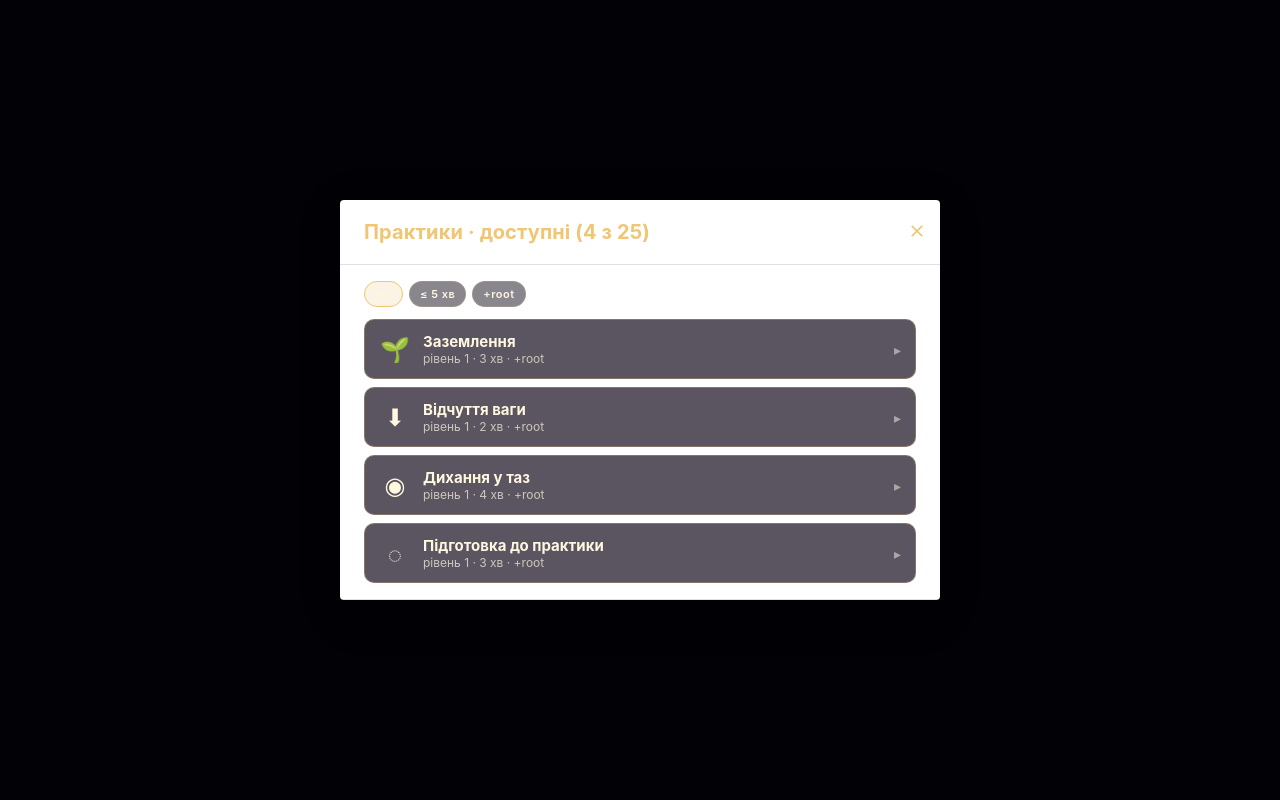
Test: PracticesModal › clicking «почати» moves to running phase with timer
Click the button "🌱 Заземлення рівень 1 · 3 хв · +root ▸": (469, 342) [364, 319, 916, 379]
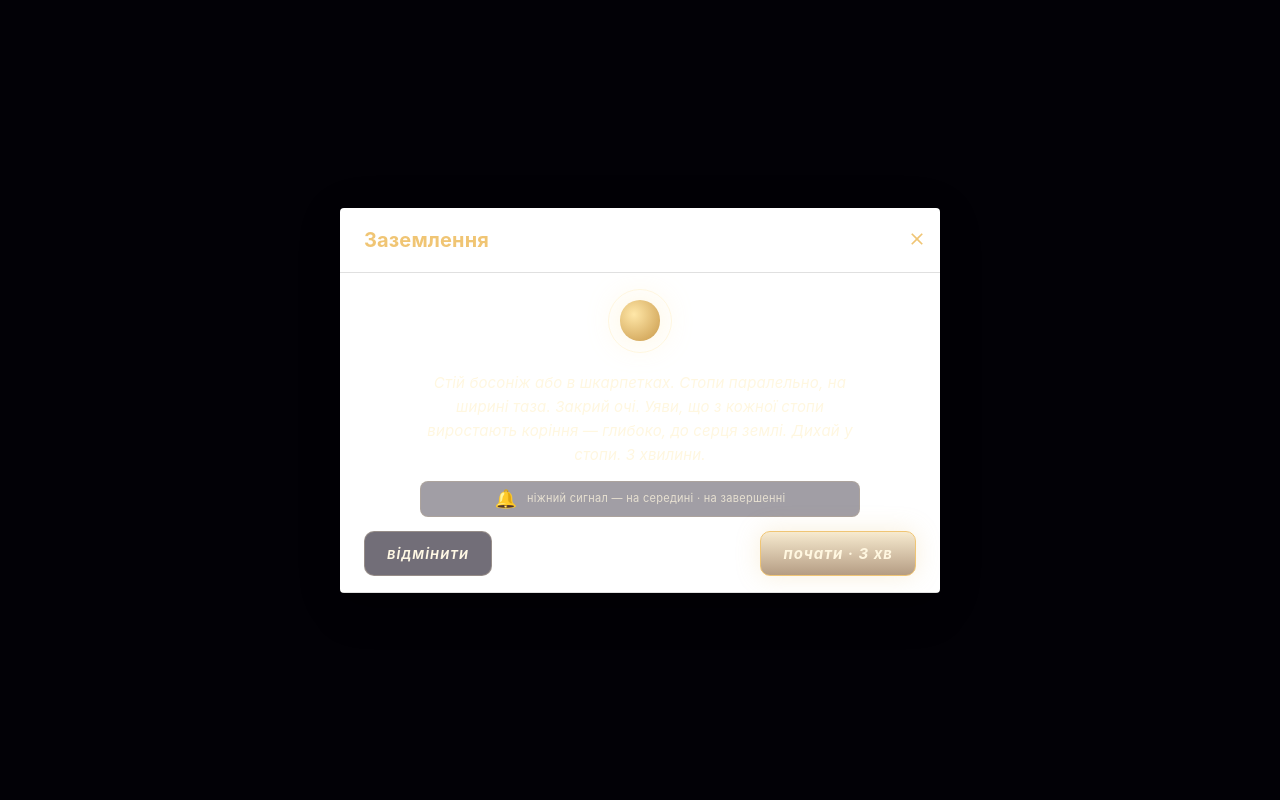
Click the button "почати · 3 хв": (838, 553) [760, 530, 916, 576]
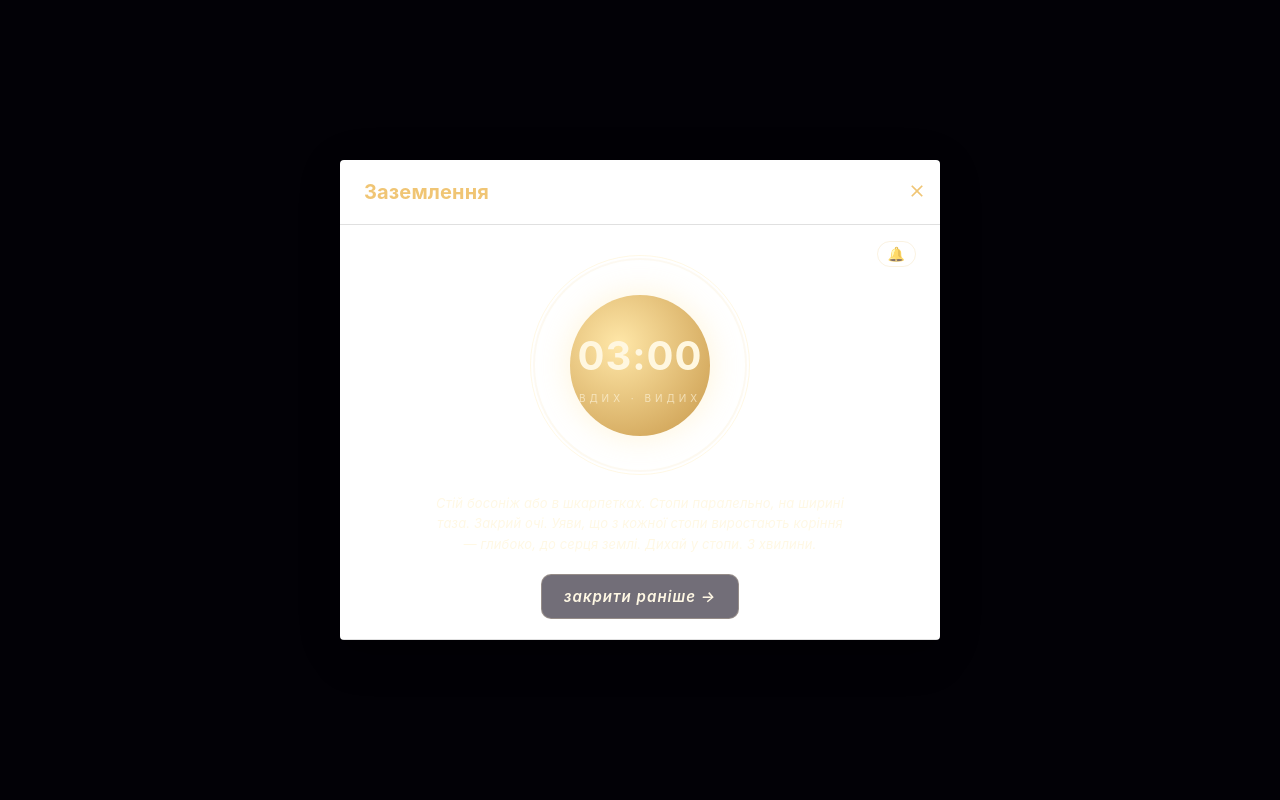
Check: the text "03:00" is shown, box [577, 324, 702, 386]
Check: the button "закрити раніше →" is shown, box [541, 574, 739, 619]
